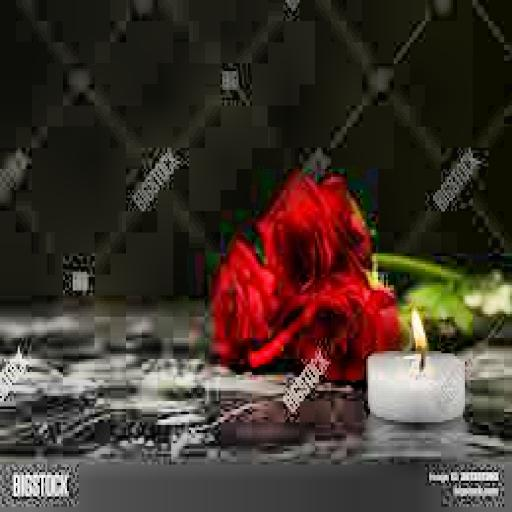fire: (402, 298, 433, 356)
